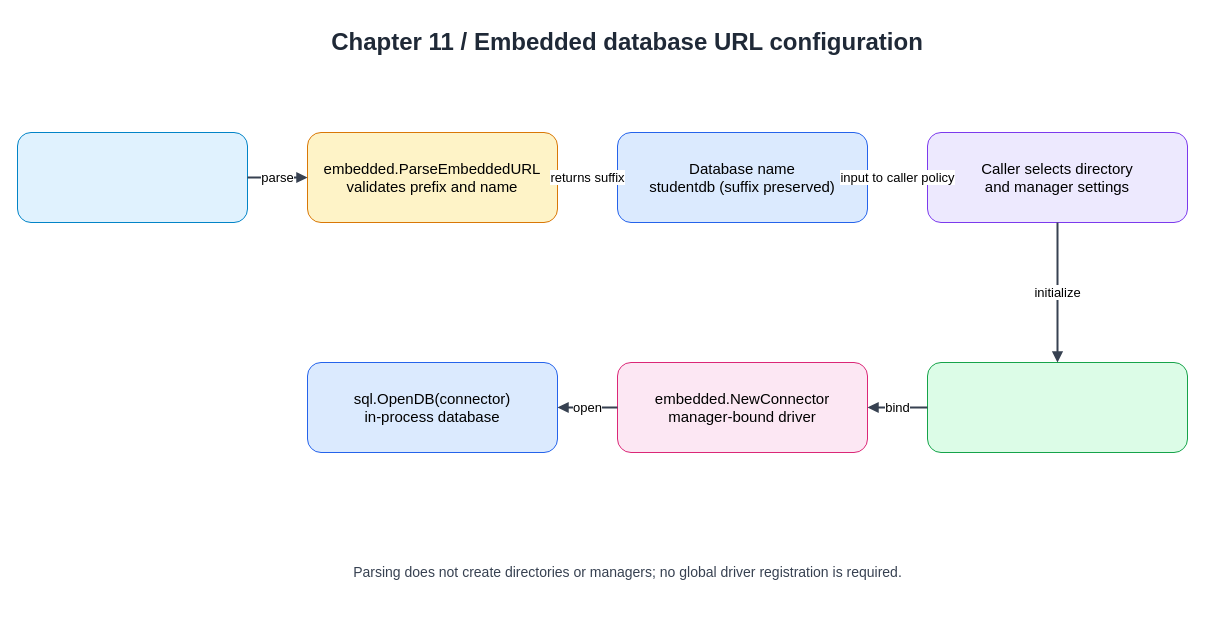
This 1205x619 diagram has some shape labels left out. Each missing label, with the centre of its shape:
"Data source name jdbc:simpledb:studentdb" belongs at point 132,177.
"server.NewManagers configured storage" belongs at point 1057,407.
